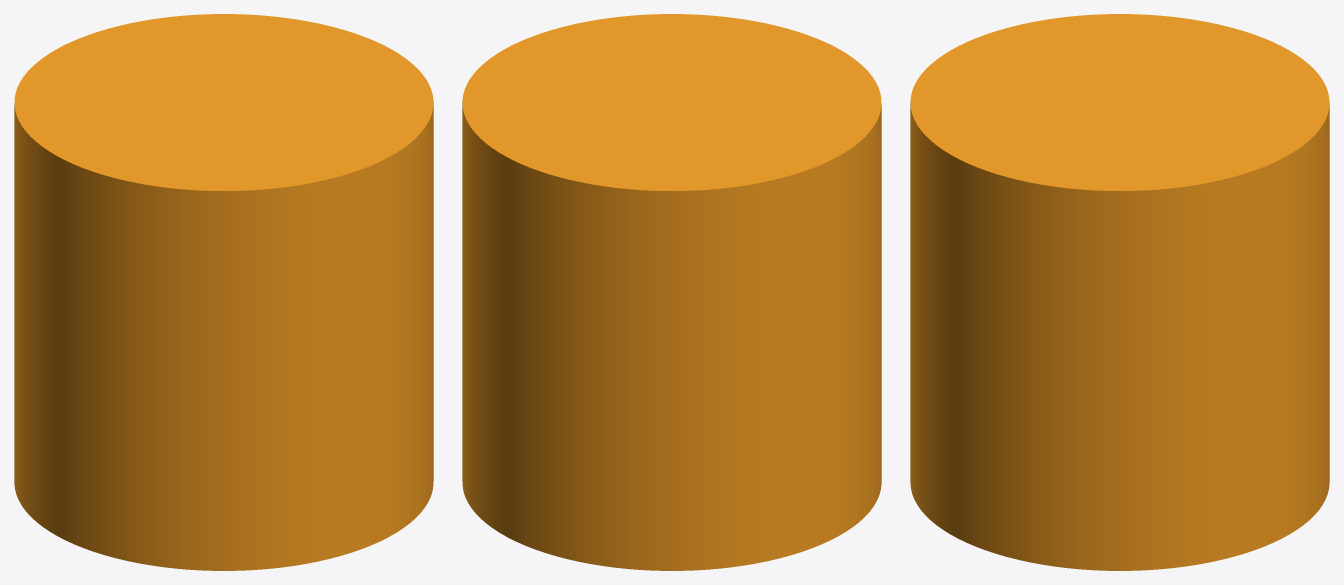
Rendered from SM_Primitive_Cylander_05.fbx.
The picture shows the model from 3 angles, left to right: view 1: azimuth 30°, elevation 25°; view 2: azimuth 150°, elevation 25°; view 3: azimuth 270°, elevation 25°; orthographic projection.
Visible parts, largest first — view 1: SM_Primitive_Cylander_05; view 2: SM_Primitive_Cylander_05; view 3: SM_Primitive_Cylander_05.
Part boxes in pixels (x1,y1,x2,y2): SM_Primitive_Cylander_05: (14, 14, 433, 570); SM_Primitive_Cylander_05: (462, 14, 881, 570); SM_Primitive_Cylander_05: (910, 14, 1329, 570).
Size of the model in its own units: 100 by 100 by 100.
